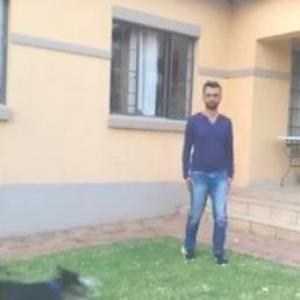follow: (179, 79, 240, 266)
